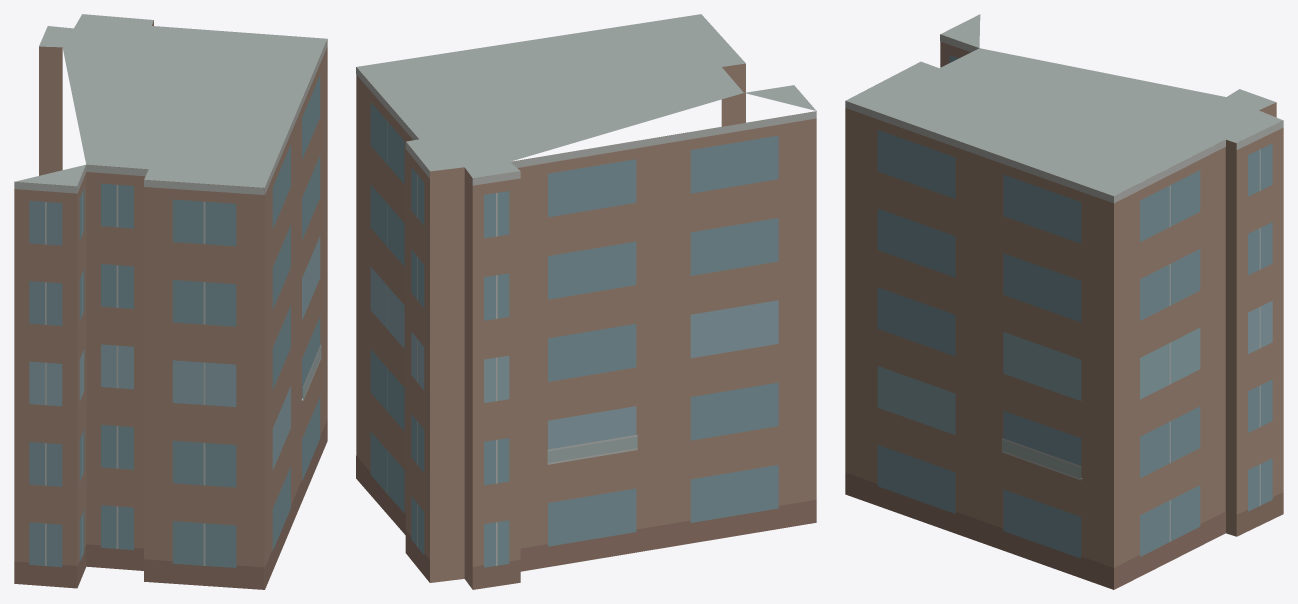
File: survey-upis-32814109.glb
3 renders of one model, left to right at view 1: azimuth 30°, elevation 25°; view 2: azimuth 150°, elevation 25°; view 3: azimuth 270°, elevation 25°, orthographic. The views are drawn at different scales.
Visible parts, largest first — view 1: survey-upis-32814109.tmp; view 2: survey-upis-32814109.tmp; view 3: survey-upis-32814109.tmp.
Boxes of the visible parts, x1,y1,x2,y2 form: survey-upis-32814109.tmp: [14, 14, 327, 589]; survey-upis-32814109.tmp: [356, 14, 816, 589]; survey-upis-32814109.tmp: [845, 14, 1283, 589].
Size of the model in its own units: 13.41 by 13.5 by 13.63.
